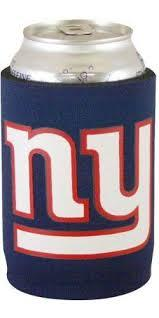Aluminum can: (8, 10, 159, 84)
